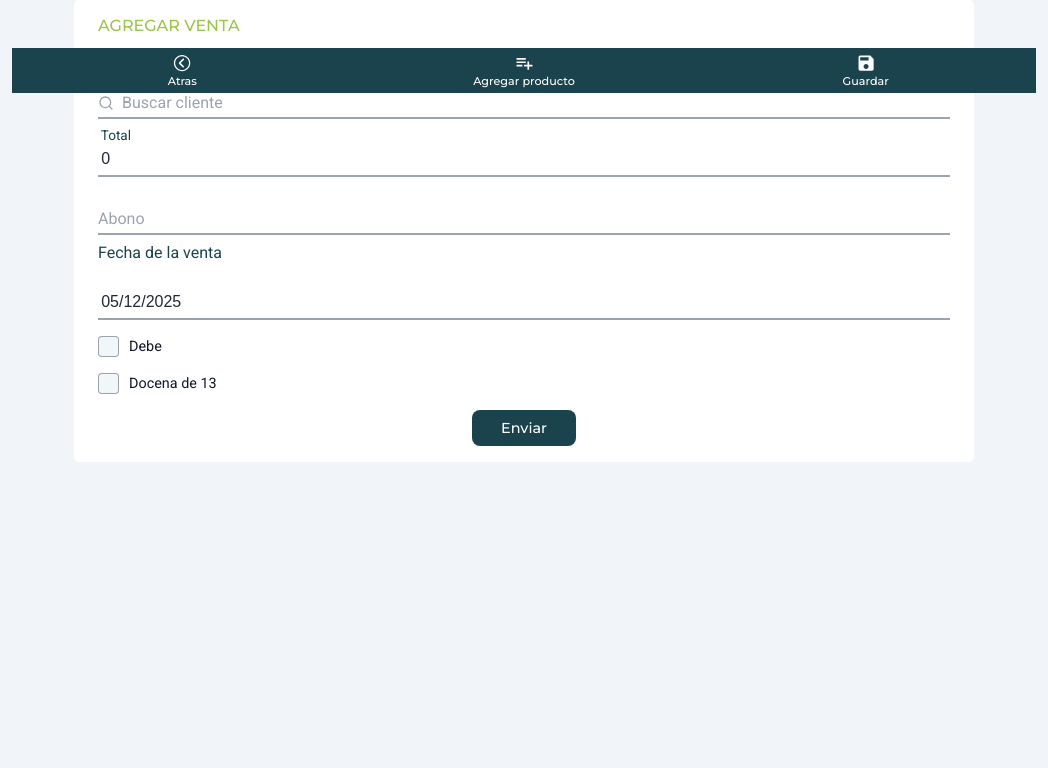
Test: AddEditSalePage › Add Sale Mode › calculates owes correctly based on partial payment and total price
Click the button "Agregar producto" at (524, 70), box [354, 48, 694, 93]
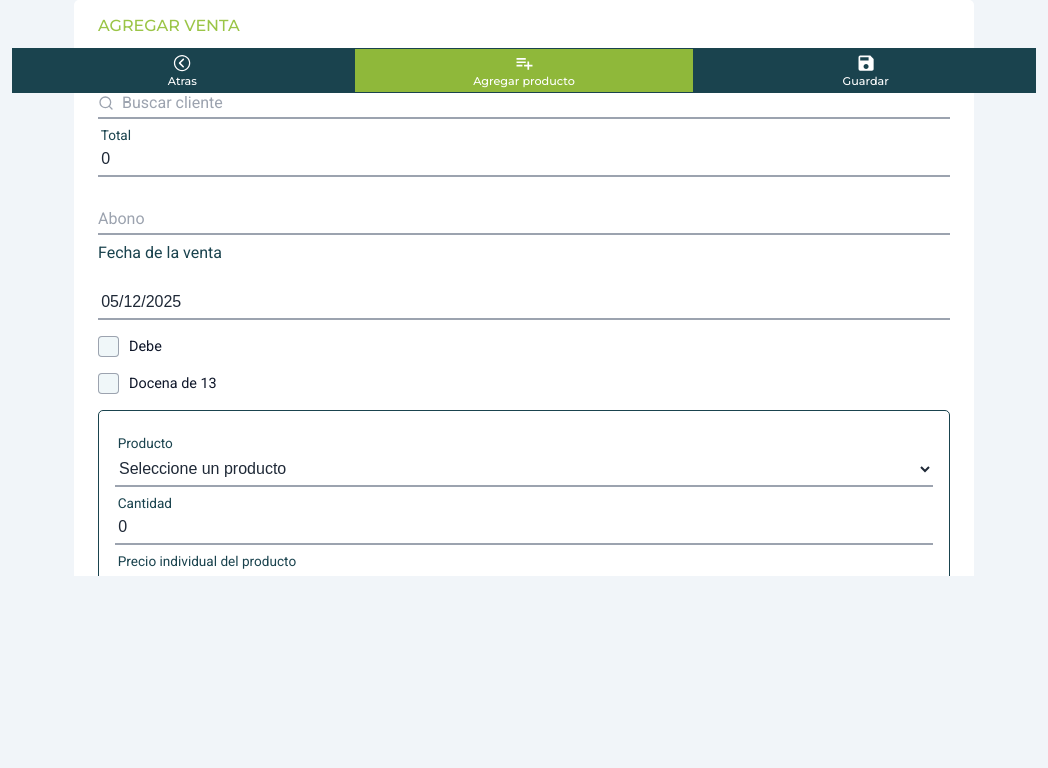
Select "Wolf Snack Mix Bolsa 500" in the dropdown labelled "Producto" at (524, 469), box [115, 451, 933, 487]
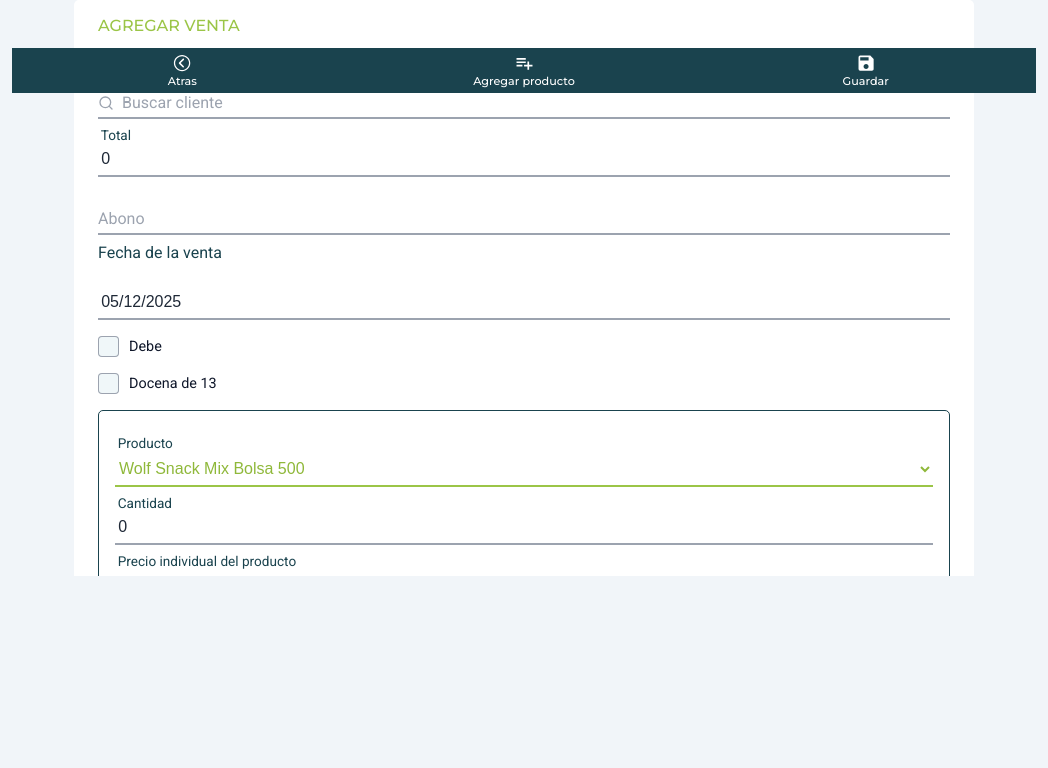
Type "2" into the number field labelled "Cantidad" at (524, 528), box [115, 511, 933, 545]
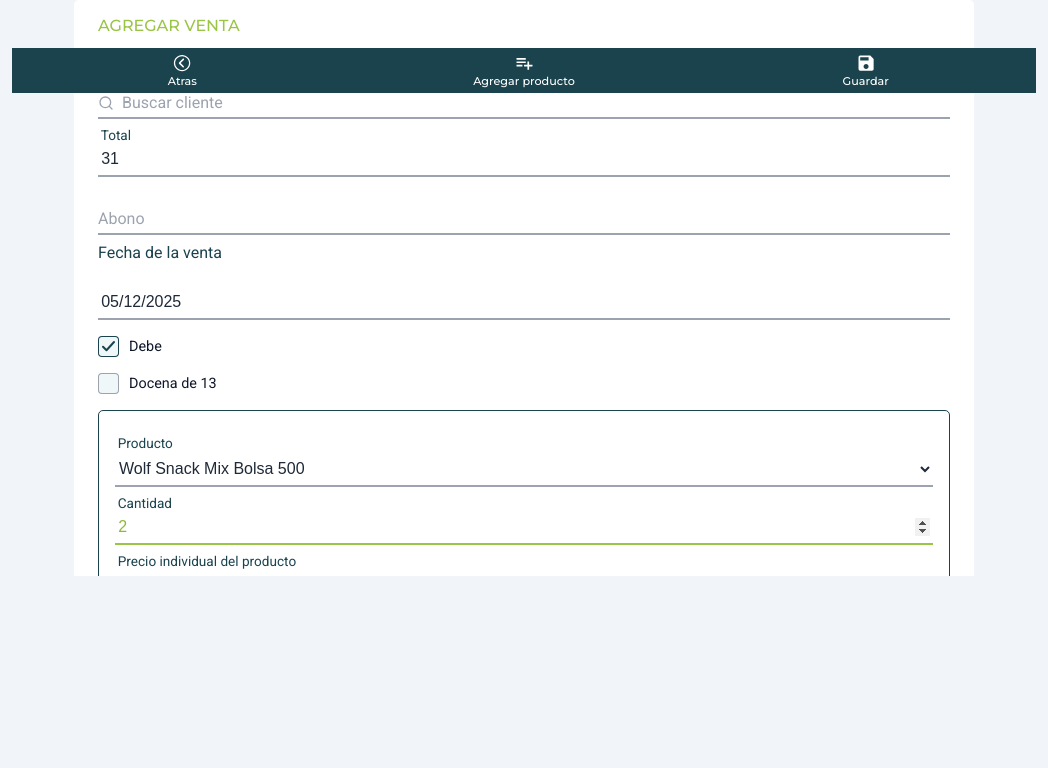
// Set partial payment less than total
Type "21.98" into the number field labelled "Abono" at (524, 218), box [98, 201, 950, 235]
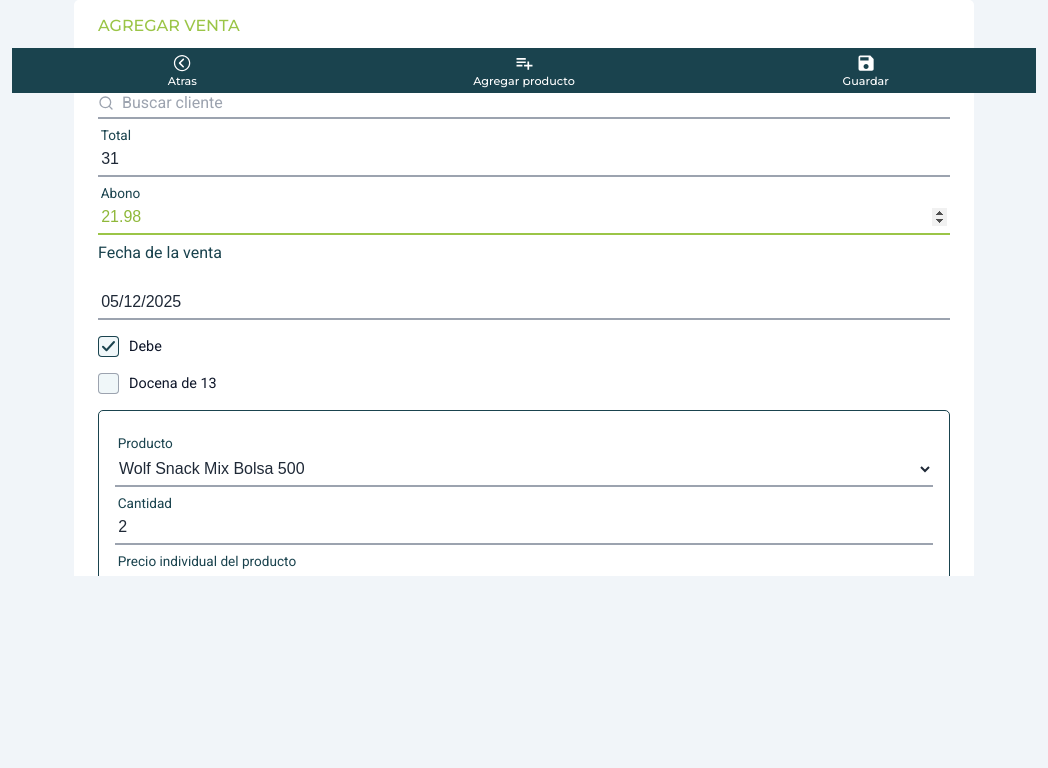
Now the checkbox labelled "Debe" is checked, box [98, 336, 119, 357]
// Set partial payment equal to total
Replace the text in the number field labelled "Abono" with "31.98" at (524, 218), box [98, 201, 950, 235]
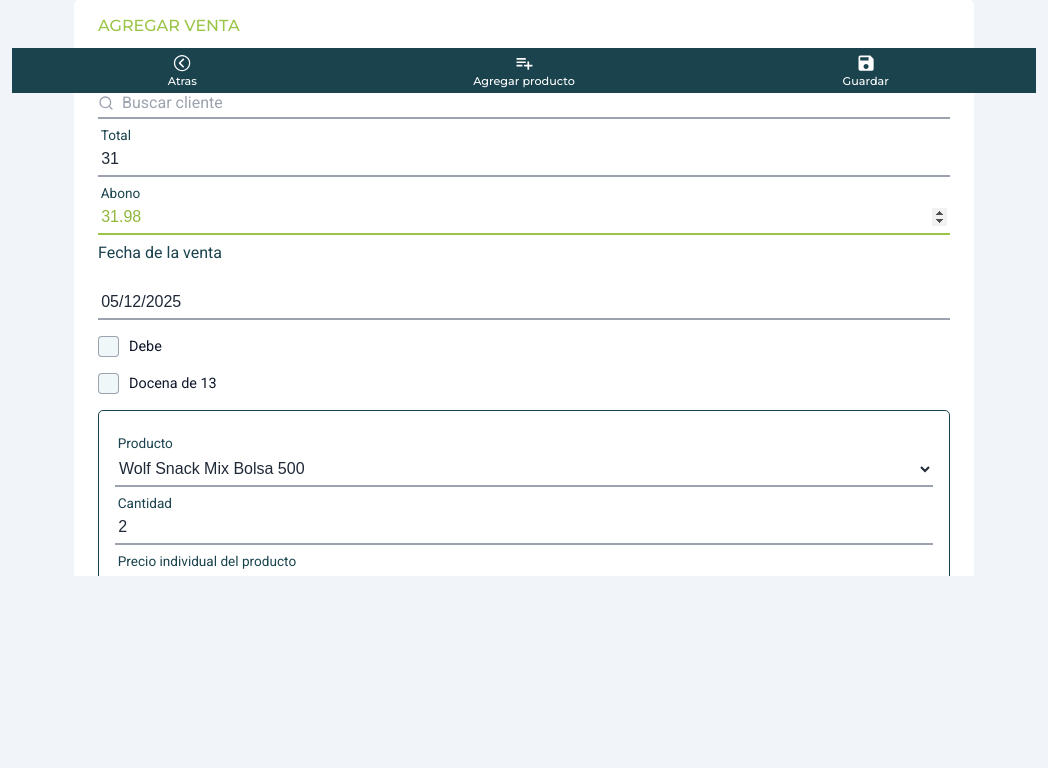
Now the checkbox labelled "Debe" is not checked, box [98, 336, 119, 357]
